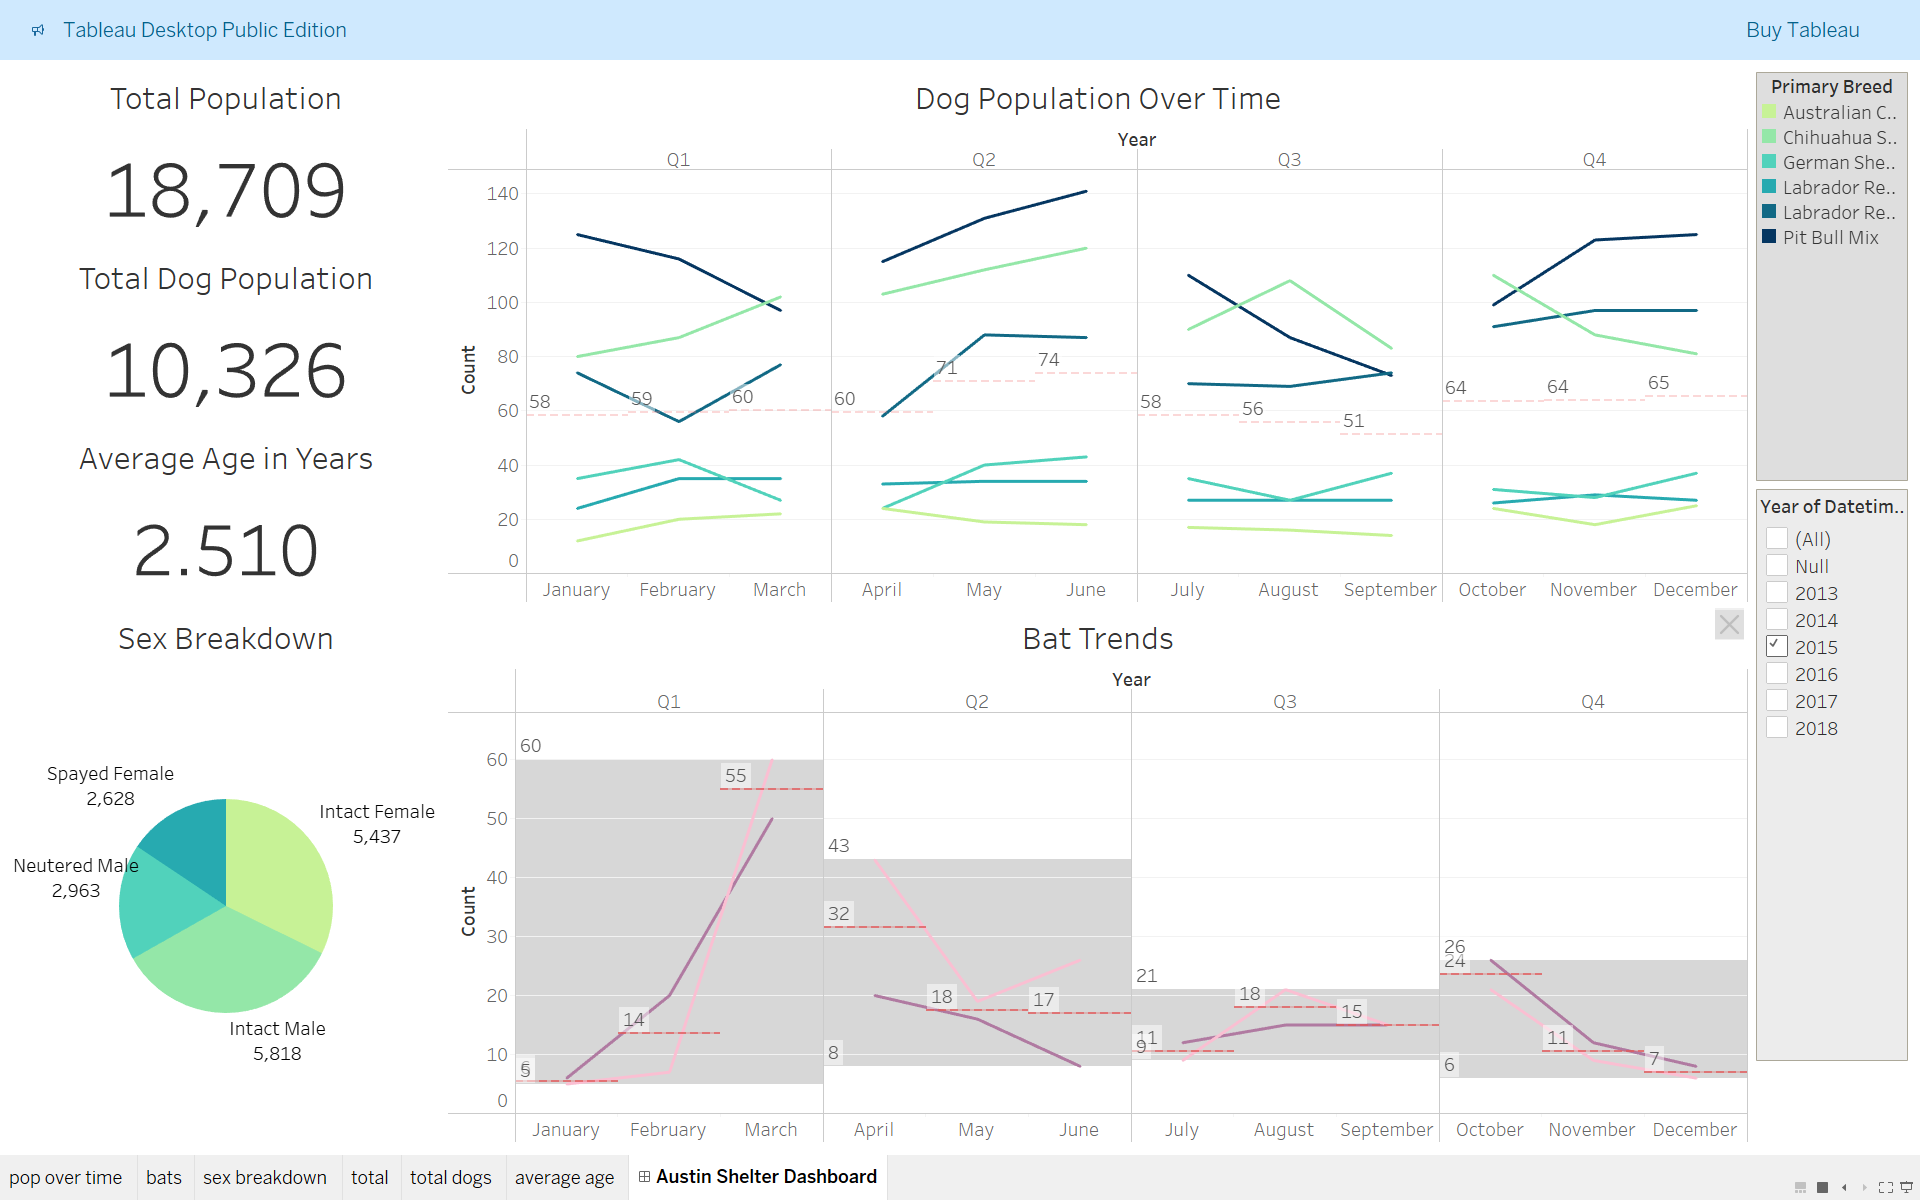

This screenshot's page, from the dashboard's own definition file:
{"tool":"tableau","page":{"name":"Austin Shelter Dashboard","canvas":[1000,1000],"units":"permille","ordinal":0},"visuals":[{"type":"worksheet","title":"total","mark":"Automatic","box":[4.3,9.8,226.3,490.2]},{"type":"worksheet","title":"pop over time","mark":"Automatic","rows":["Working Intakes_8B9D8FF0121B48D5B5B6909222D4542D"],"cols":["Year","Year"],"box":[230.6,9.8,678.8,490.2]},{"type":"legend","title":"pop over time","param":"[federated.1eme2z41n42q171at1x1209kciz9].[none:primary_breed:nk]","box":[909.3,9.8,86.4,490.2]},{"type":"worksheet","title":"sex breakdown","mark":"Pie","box":[4.3,500,226.4,490.2]},{"type":"worksheet","title":"bats","mark":"Automatic","rows":["Working Intakes_8B9D8FF0121B48D5B5B6909222D4542D"],"cols":["Year","Year"],"box":[230.7,500,678.6,490.2]},{"type":"dashboard-object","box":[893.3,500,15.2,29.6]},{"type":"filter","title":"pop over time","param":"[federated.1eme2z41n42q171at1x1209kciz9].[yr:datetime2:ok]","box":[909.3,500,86.4,490.2]}]}

Visuals, with their boxes on the dashboard's canvas, which has no fixed pixel size, in thousandths of its width and height (x1, y1, x2, y2). These are canvas units, not pixel positions in the 1920x1200 screenshot, which may show the page scaled, cropped or inside an application window:
"total" worksheet: l=4, t=10, r=231, b=500
"pop over time" worksheet: l=231, t=10, r=909, b=500
"pop over time" legend: l=909, t=10, r=996, b=500
"sex breakdown" worksheet (Pie marks): l=4, t=500, r=231, b=990
"bats" worksheet: l=231, t=500, r=909, b=990
dashboard-object: l=893, t=500, r=908, b=530
"pop over time" filter: l=909, t=500, r=996, b=990
